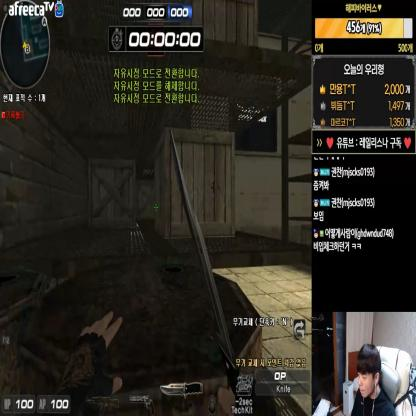streamer: (348, 342, 397, 416)
